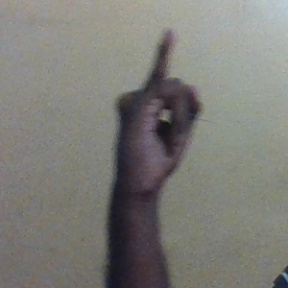I: (111, 25, 204, 187)
